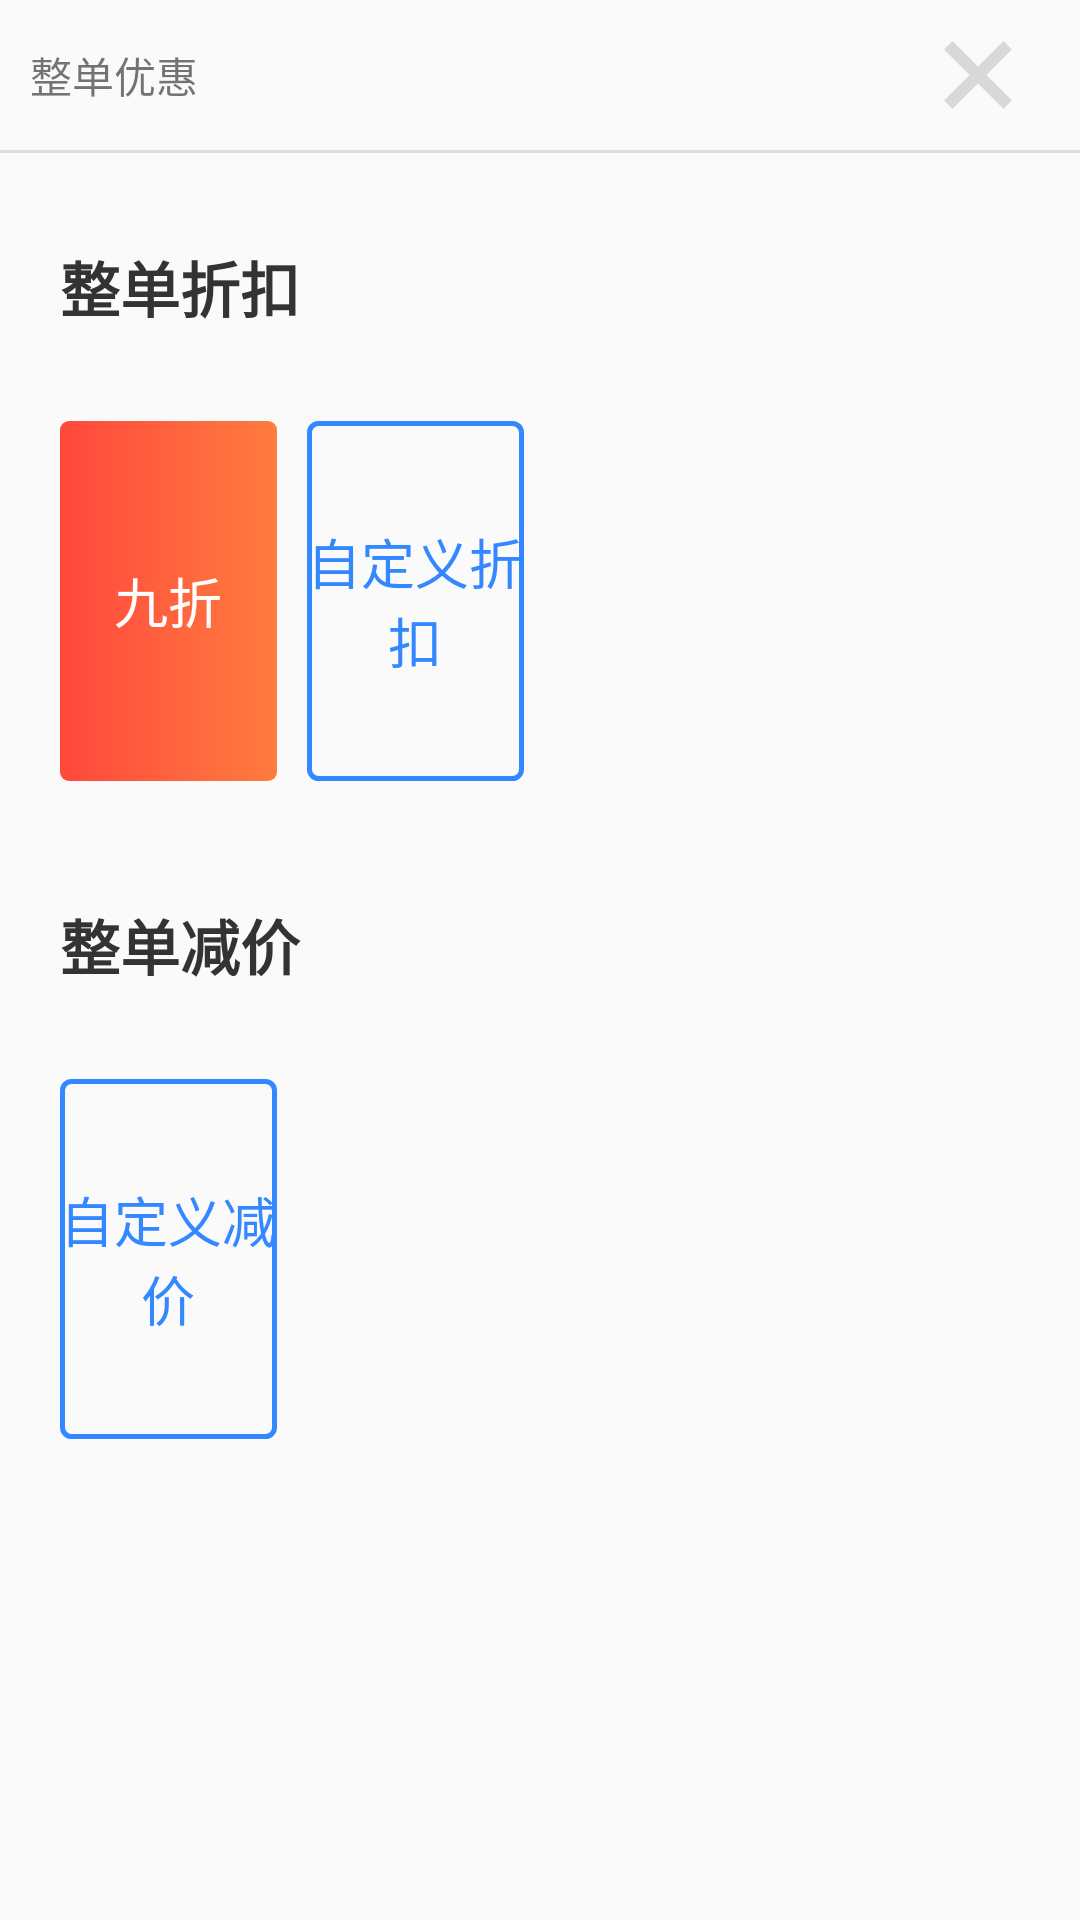

Named icons in this screenshot (1080w x 1920h) and their bounding boxes, {"x1": x1, "y1": y1, "x2": x2, "y2": y2}:
right close: {"x1": 945, "y1": 42, "x2": 1011, "y2": 108}
